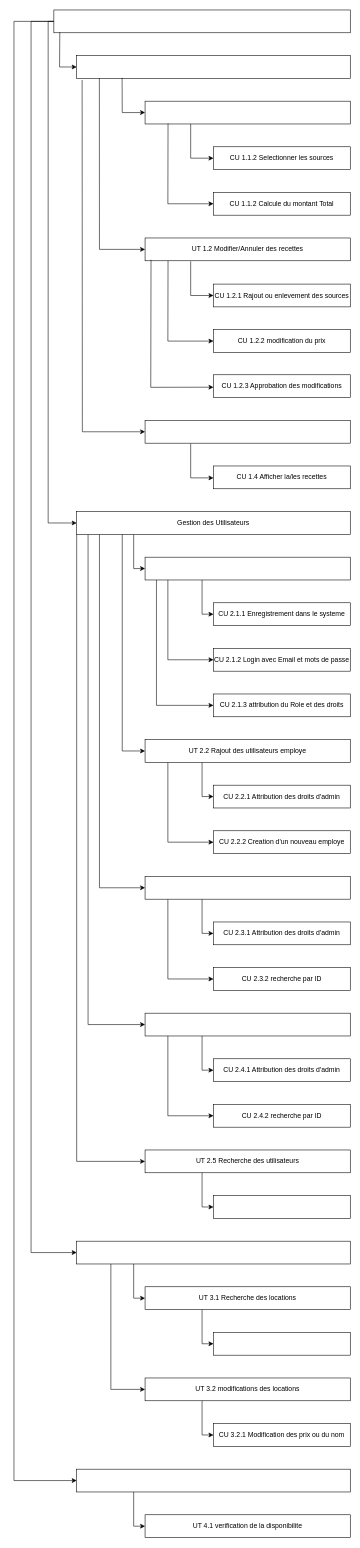
Some shapes in this 360 by 1548 pixel diagram are drawn without their labels. Here are the shapes that lost their labels. From the top down, the centre of each, then its label:
At (201,21): "Hotel".
At (213,66): "Gestion des Recettes".
At (247,112): "UT 1.1 Creer une recette".
At (247,431): "UT 1.3. Recherche d'une recettes".
At (247,568): "UT 2.1 Authentification".
At (247,887): "UT 2.3 Modification des utilisateurs".
At (247,1024): "UT 2.4 Annuler des utilisateurs".
At (281,1206): "CU 2.5.1 Affichage des utilisaturs".
At (213,1252): "Gestion des locations(Restaurant, Chambre, WC, Douche, )".
At (281,1343): "CU 3.1.1 Affichage des locations".
At (213,1480): "Gestion des disponibilite".
